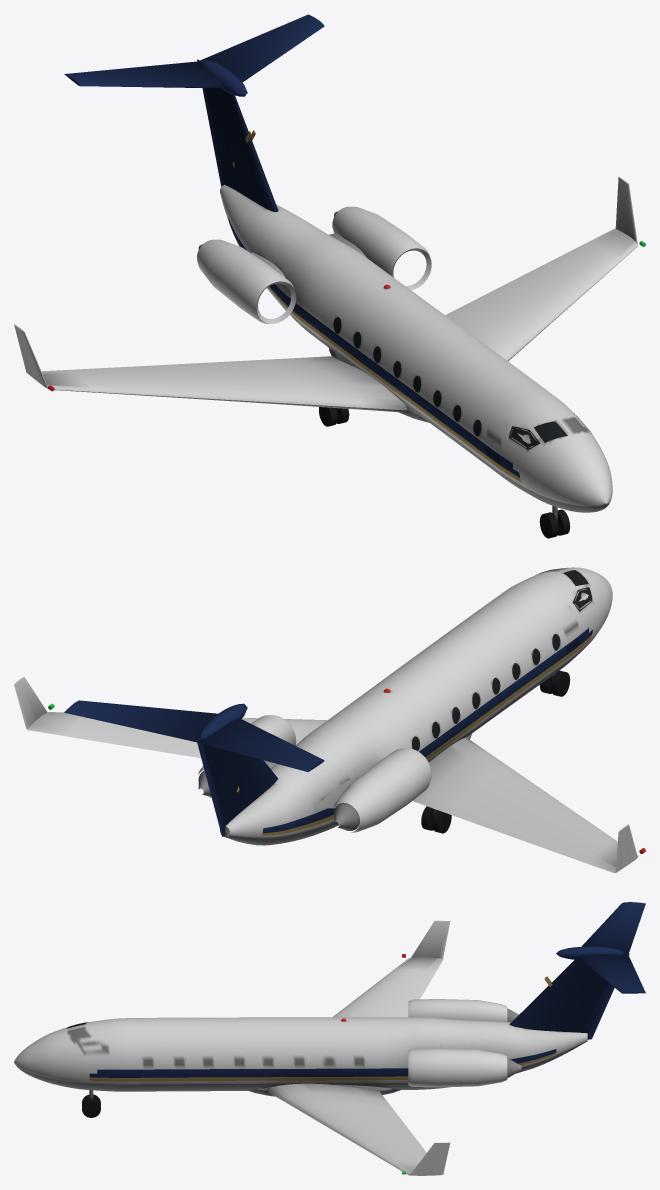
The model's file is rajhans.glb.
3 views of the same model, one above another, from view 1: azimuth 30°, elevation 25°; view 2: azimuth 150°, elevation 25°; view 3: azimuth 270°, elevation 25° (orthographic). The views are drawn at different scales.
Parts seen in each view (by area): view 1: rajhans; view 2: rajhans; view 3: rajhans.
Part boxes in pixels (x1,y1,x2,y2): rajhans: (14,14,645,538); rajhans: (14,567,645,873); rajhans: (14,902,645,1175).
Bounding box in the file's own units: 18.35 × 6.45 × 22.04.
